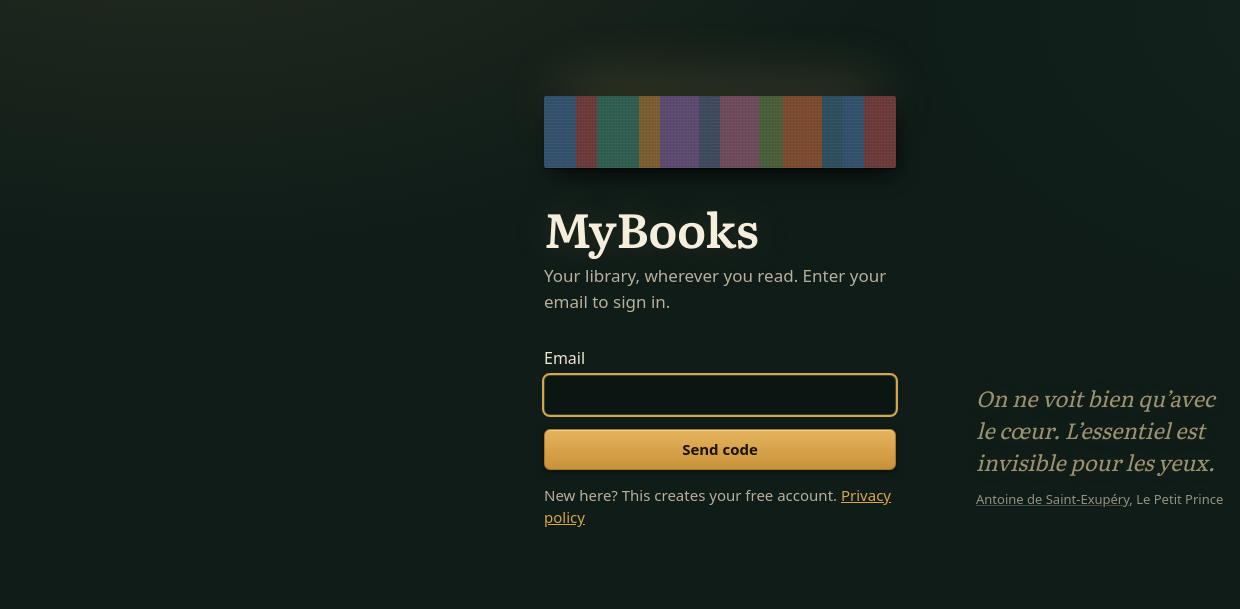
SignIn › aNetworkFailureWhileSendingCanBeRetried
Type "reader@example.com" into the field labelled "Email" at (720, 395), box x1=544 y1=375 x2=896 y2=416
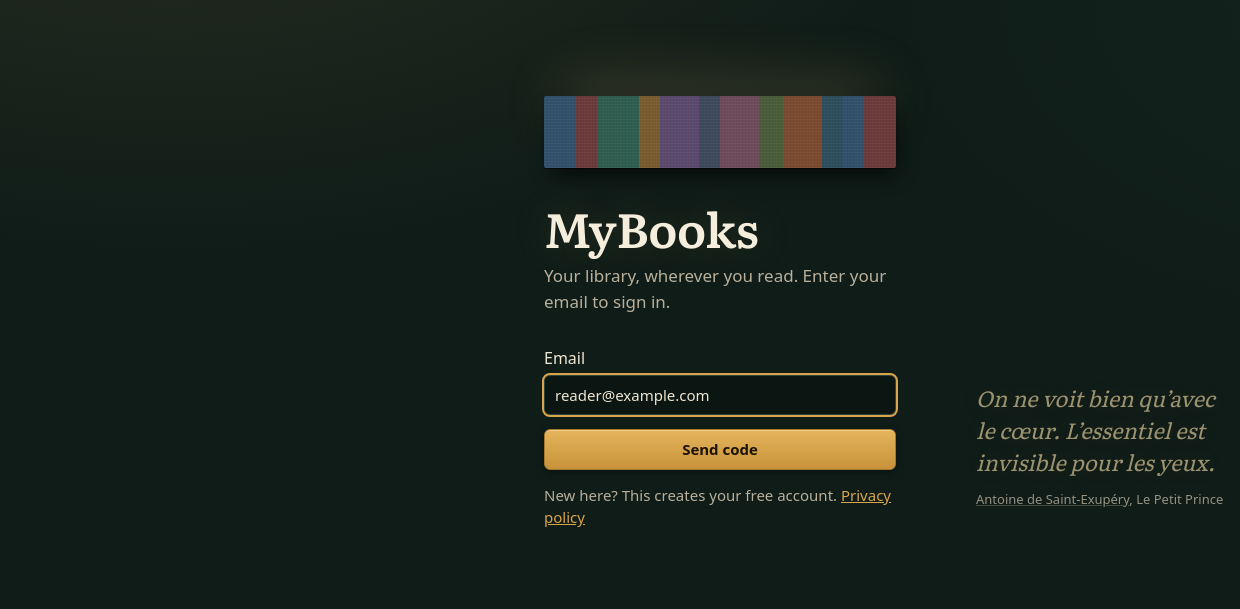
Click the button "Send code" at (720, 450), box x1=544 y1=430 x2=896 y2=470
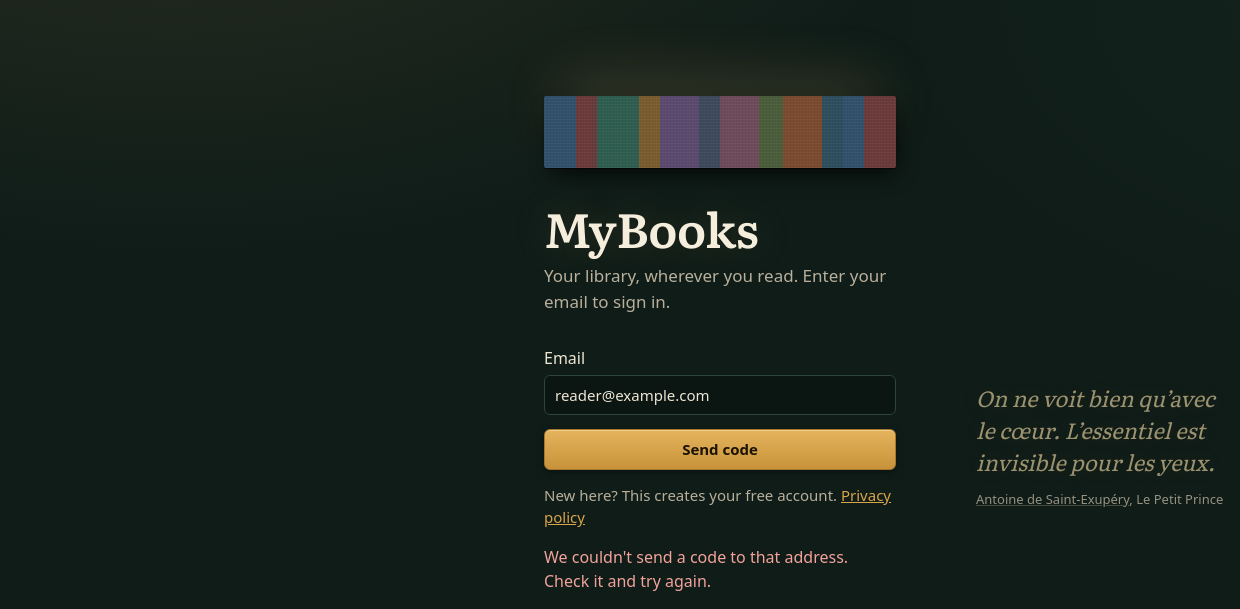
Now the message reads "We couldn't send a code to that address. Check it and try again.", box x1=544 y1=546 x2=848 y2=592
